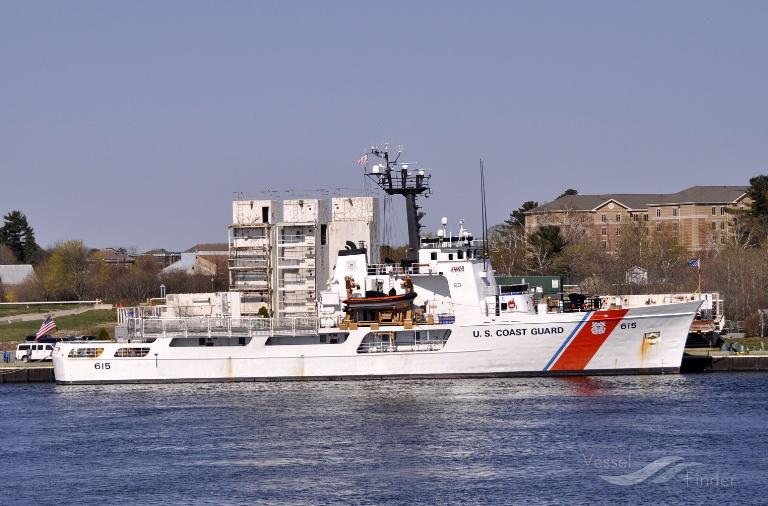OCR: (468, 326, 568, 342), (614, 318, 640, 332), (94, 358, 110, 376)
